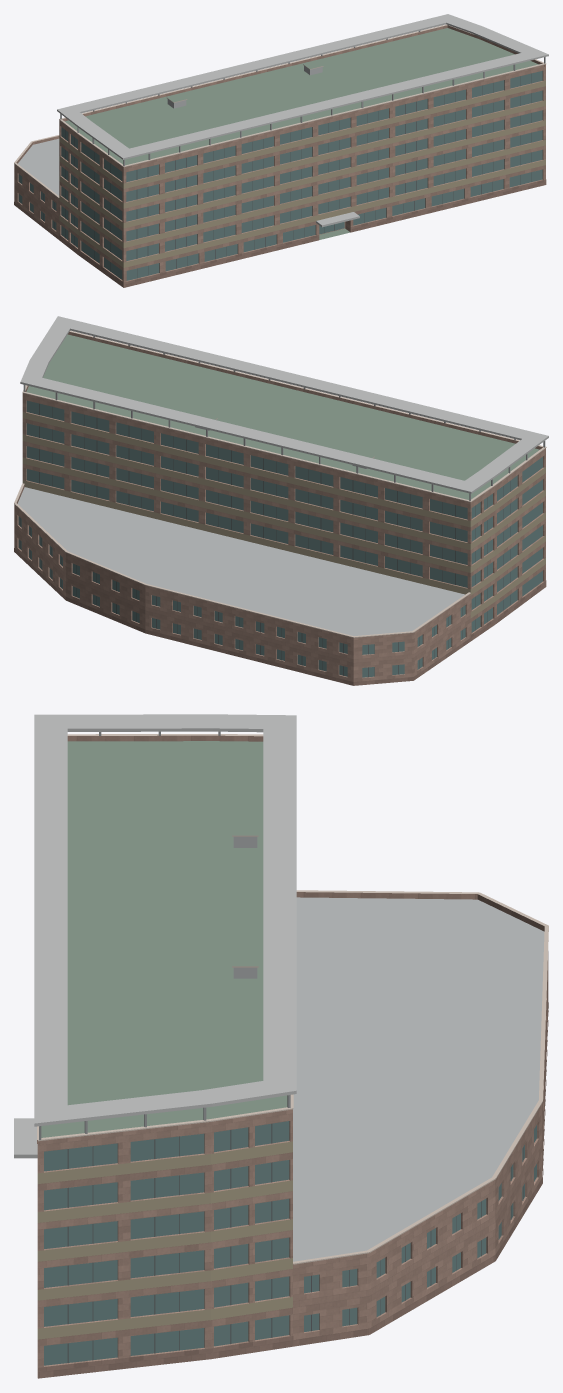
3 views of the same model, one above another, from view 1: azimuth 30°, elevation 25°; view 2: azimuth 150°, elevation 25°; view 3: azimuth 270°, elevation 25° (orthographic). The views are drawn at different scales.
Parts seen in each view (by area): view 1: humanities__glass, humanities__wall, humanities__roof, humanities__wall2, humanities__canopyTop, humanities__parapet, humanities__base, humanities__canopy, humanities__trim, humanities__frame, humanities__roofMetal; view 2: humanities__wall, humanities__glass, humanities__roofMetal, humanities__roof, humanities__wall2, humanities__canopyTop, humanities__parapet, humanities__trim, humanities__canopy, humanities__base, humanities__frame; view 3: humanities__roofMetal, humanities__roof, humanities__wall, humanities__canopyTop, humanities__glass, humanities__wall2, humanities__parapet, humanities__base, humanities__trim, humanities__canopy, humanities__frame.
Part boxes in pixels (x1,y1,x2,y2): humanities__glass: (18, 71, 542, 280); humanities__wall: (14, 66, 545, 287); humanities__roof: (65, 28, 538, 239); humanities__wall2: (59, 80, 545, 267); humanities__canopyTop: (57, 14, 548, 158); humanities__parapet: (14, 25, 545, 200); humanities__base: (14, 179, 546, 287); humanities__canopy: (57, 22, 548, 227); humanities__trim: (14, 24, 546, 197); humanities__frame: (43, 73, 531, 278); humanities__roofMetal: (18, 66, 322, 195); humanities__wall: (14, 395, 545, 685); humanities__glass: (18, 400, 542, 677); humanities__roofMetal: (17, 420, 464, 635); humanities__roof: (26, 334, 539, 499); humanities__wall2: (22, 412, 545, 618); humanities__canopyTop: (20, 316, 548, 491); humanities__parapet: (14, 331, 545, 640); humanities__trim: (14, 330, 546, 637); humanities__canopy: (20, 328, 548, 493); humanities__base: (14, 548, 546, 685); humanities__frame: (20, 403, 510, 677); humanities__roofMetal: (233, 836, 544, 1261); humanities__roof: (41, 741, 287, 1137); humanities__wall: (37, 952, 548, 1377); humanities__canopyTop: (34, 714, 296, 1123); humanities__glass: (44, 1121, 536, 1365); humanities__wall2: (37, 1141, 292, 1339); humanities__parapet: (37, 735, 544, 1268); humanities__base: (38, 1002, 548, 1378); humanities__trim: (37, 734, 548, 1264); humanities__canopy: (14, 728, 296, 1158); humanities__frame: (67, 1123, 523, 1363).
Bounding box in the file's own units: 81.33 × 23.8 × 44.93.
13 materials, 3 textured.
